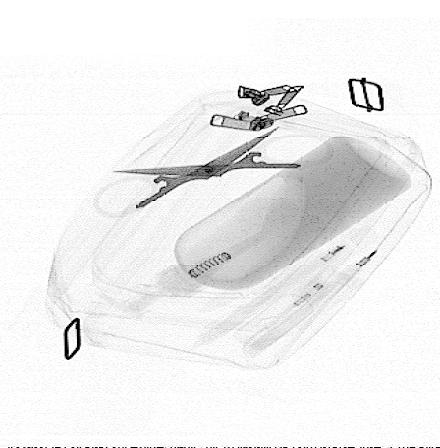Scissors: (95, 126, 338, 221)
